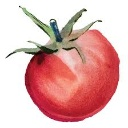tomato: (25, 28, 118, 122)
